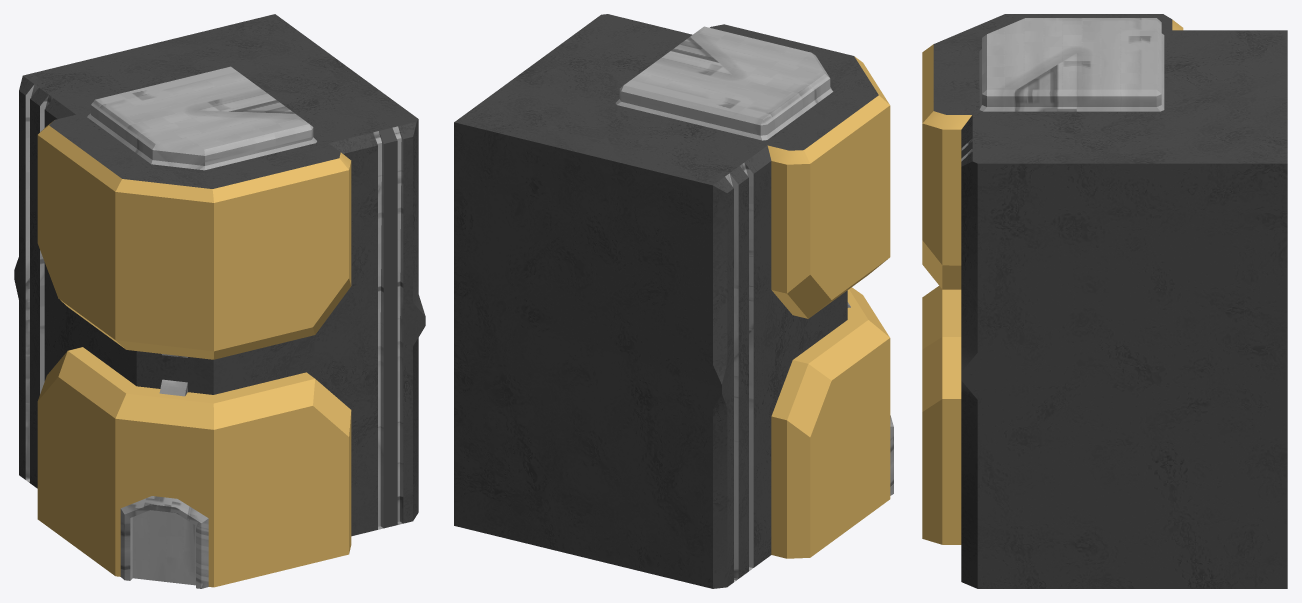
Rendered from NB_Corner_Building.fbx.
3 views of the same model, side by side, from view 1: azimuth 30°, elevation 25°; view 2: azimuth 150°, elevation 25°; view 3: azimuth 270°, elevation 25° (orthographic). The views are drawn at different scales.
Visible parts, largest first — view 1: NB_Corner_Building; view 2: NB_Corner_Building; view 3: NB_Corner_Building.
Boxes of the visible parts, x1,y1,x2,y2 form: NB_Corner_Building: (14,14,425,588); NB_Corner_Building: (454,14,893,588); NB_Corner_Building: (922,14,1287,588).
Size of the model in its own units: 350 by 470 by 350.
